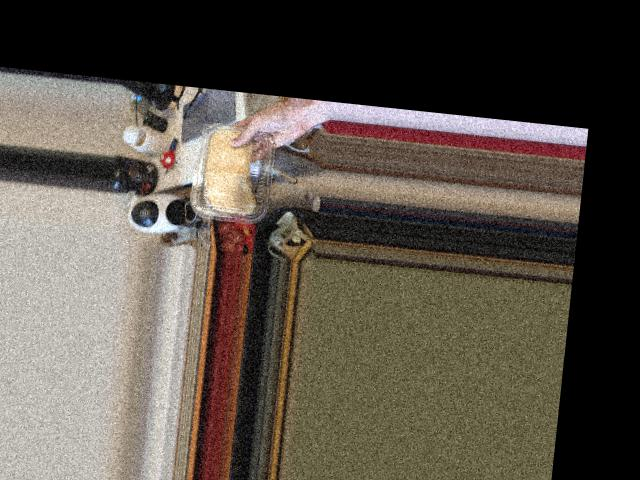cheese: (181, 123, 281, 218)
